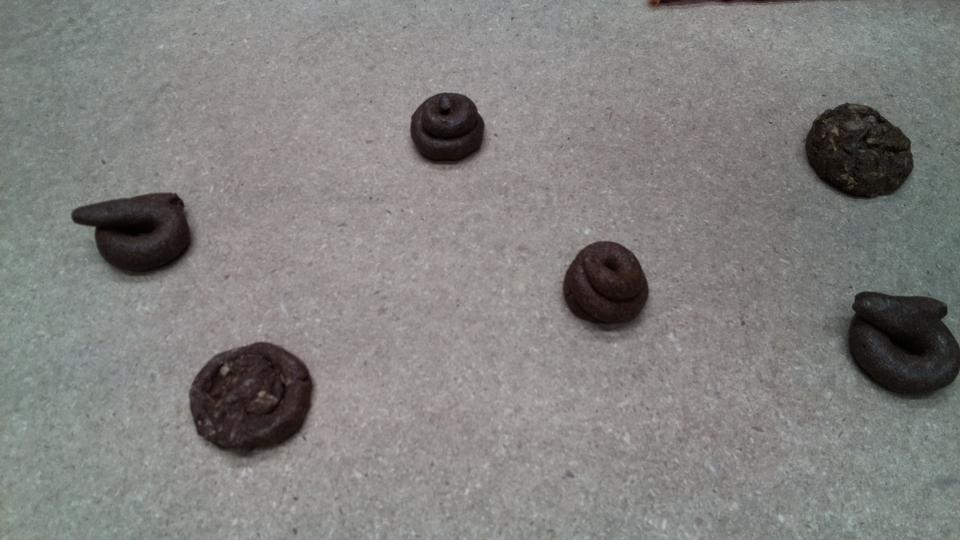poop: (185, 339, 318, 458), (845, 287, 960, 402), (66, 182, 197, 281), (802, 101, 916, 202), (561, 238, 652, 331), (407, 90, 487, 169)
